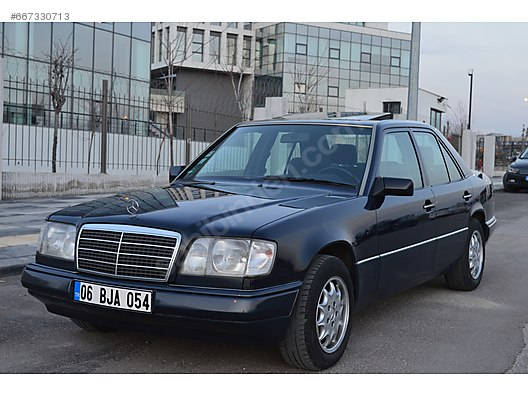mercedes: (18, 110, 490, 368)
